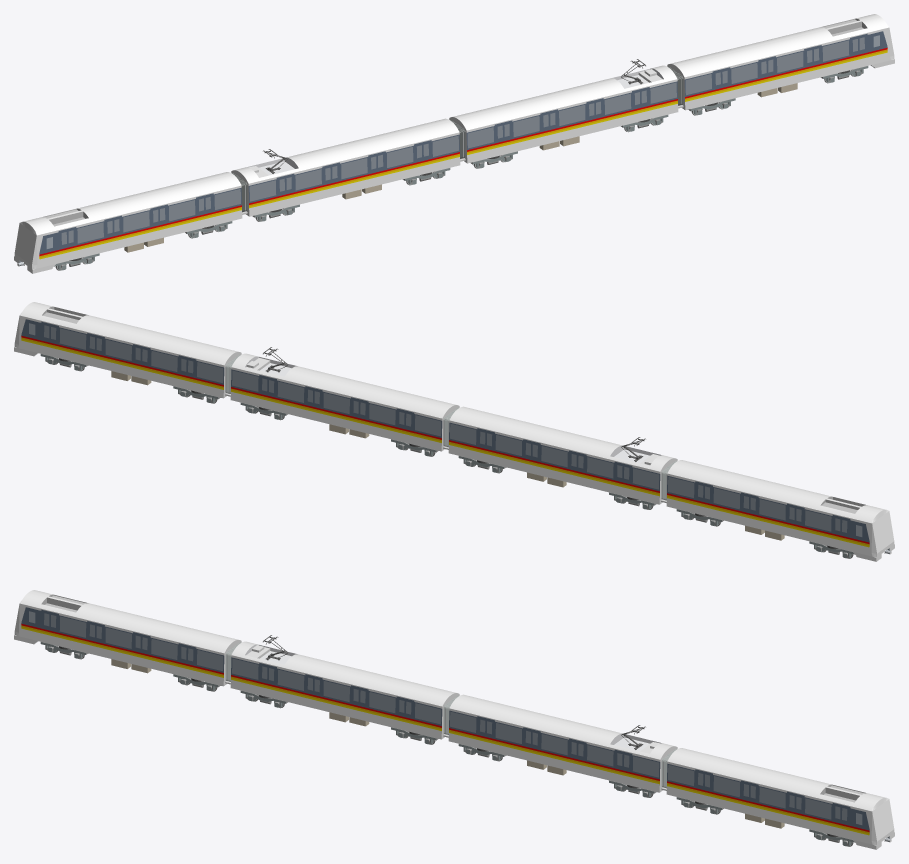
File: train-cab.glb
3 views of the same model, one above another, from view 1: azimuth 30°, elevation 25°; view 2: azimuth 150°, elevation 25°; view 3: azimuth 330°, elevation 25° (orthographic).
Parts seen in each view (by area): view 1: Component27_001, Component63_001, Component_001, Component91_001; view 2: Component27_001, Component63_001, Component_001, Component91_001; view 3: Component91_001, Component_001, Component63_001, Component27_001.
Boxes of the visible parts, x1,y1,x2,y2 form: Component27_001: (14,172,242,273); Component63_001: (449,59,678,163); Component_001: (231,118,460,216); Component91_001: (667,14,894,110); Component27_001: (666,460,894,561); Component63_001: (230,347,459,451); Component_001: (448,406,677,504); Component91_001: (14,302,241,398); Component91_001: (666,748,894,849); Component_001: (230,635,459,739); Component63_001: (448,694,677,792); Component27_001: (14,590,241,686).
Bounding box in the file's own units: 90.71 × 6.27 × 3.34.
